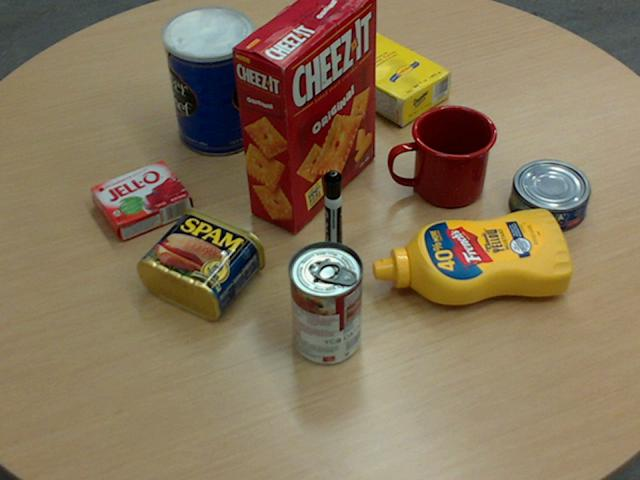cracker_box: (230, 0, 376, 232)
gelatin_box: (90, 158, 191, 240)
large_marker: (322, 171, 343, 265)
master_chef_can: (162, 5, 260, 155)
mug: (388, 104, 496, 207)
mustard_bottle: (372, 208, 571, 304)
potted_meat_can: (136, 206, 265, 319)
sugar_box: (302, 18, 451, 125)
tomato_soup_can: (287, 240, 362, 364)
tuna_fish_can: (508, 159, 589, 231)
